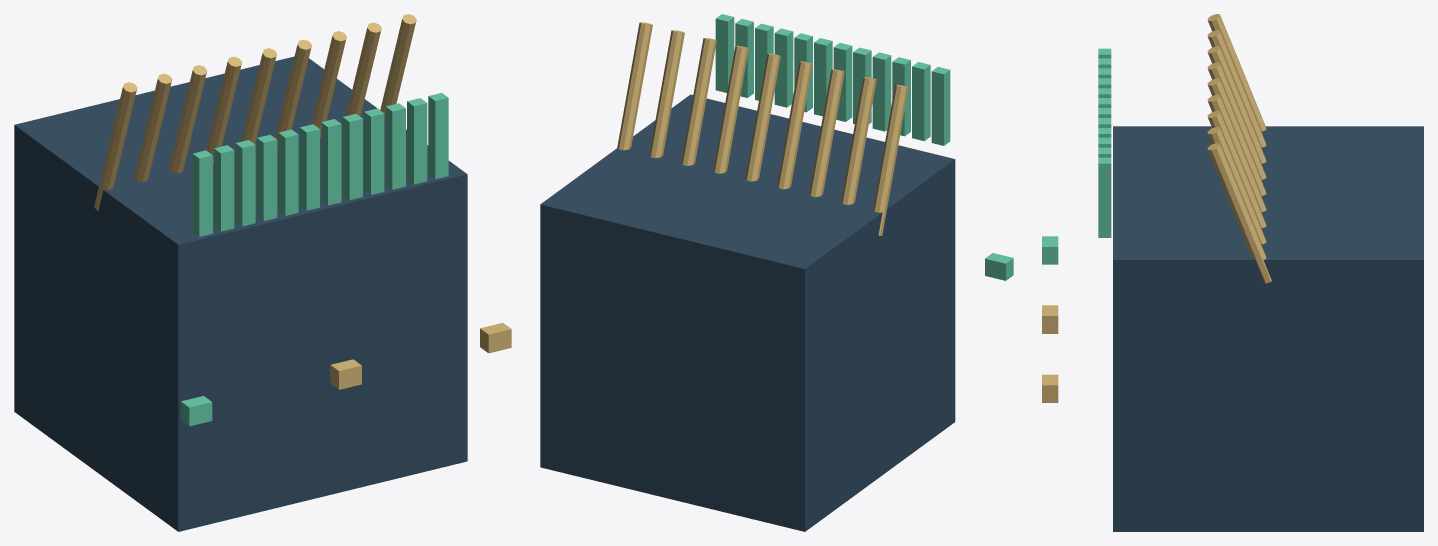
The model's file is 52_L80_IOOpticalOutputInterface.glb.
The picture shows the model from 3 angles, left to right: view 1: azimuth 30°, elevation 25°; view 2: azimuth 150°, elevation 25°; view 3: azimuth 270°, elevation 25°; orthographic projection. The views are drawn at different scales.
Parts seen in each view (by area): view 1: IOOpticalOutputInterface_Node_0000, IOOpticalOutputInterface_Node_0013, IOOpticalOutputInterface_Node_0010, IOOpticalOutputInterface_Node_0003, IOOpticalOutputInterface_Node_0006, IOOpticalOutputInterface_Node_0007, IOOpticalOutputInterface_Node_0009, IOOpticalOutputInterface_Node_0001, IOOpticalOutputInterface_Node_0002, IOOpticalOutputInterface_Node_0005, IOOpticalOutputInterface_Node_0008, IOOpticalOutputInterface_Node_0011 (+13 smaller); view 2: IOOpticalOutputInterface_Node_0000, IOOpticalOutputInterface_Node_0013, IOOpticalOutputInterface_Node_0014, IOOpticalOutputInterface_Node_0015, IOOpticalOutputInterface_Node_0017, IOOpticalOutputInterface_Node_0019, IOOpticalOutputInterface_Node_0016, IOOpticalOutputInterface_Node_0018, IOOpticalOutputInterface_Node_0020, IOOpticalOutputInterface_Node_0021, IOOpticalOutputInterface_Node_0001, IOOpticalOutputInterface_Node_0002 (+11 smaller); view 3: IOOpticalOutputInterface_Node_0000, IOOpticalOutputInterface_Node_0021, IOOpticalOutputInterface_Node_0012, IOOpticalOutputInterface_Node_0014, IOOpticalOutputInterface_Node_0016, IOOpticalOutputInterface_Node_0017, IOOpticalOutputInterface_Node_0013, IOOpticalOutputInterface_Node_0015, IOOpticalOutputInterface_Node_0018, IOOpticalOutputInterface_Node_0020, IOOpticalOutputInterface_Node_0019, IOOpticalOutputInterface_Node_0022 (+2 smaller).
Part boxes in pixels (x1,y1,x2,y2): IOOpticalOutputInterface_Node_0000: (14, 56, 467, 531); IOOpticalOutputInterface_Node_0013: (94, 82, 137, 210); IOOpticalOutputInterface_Node_0010: (385, 103, 405, 189); IOOpticalOutputInterface_Node_0003: (235, 140, 255, 226); IOOpticalOutputInterface_Node_0006: (299, 124, 319, 210); IOOpticalOutputInterface_Node_0007: (321, 119, 341, 205); IOOpticalOutputInterface_Node_0009: (364, 108, 384, 194); IOOpticalOutputInterface_Node_0001: (192, 150, 212, 236); IOOpticalOutputInterface_Node_0002: (214, 145, 234, 231); IOOpticalOutputInterface_Node_0005: (278, 129, 298, 215); IOOpticalOutputInterface_Node_0008: (342, 114, 362, 200); IOOpticalOutputInterface_Node_0011: (407, 98, 427, 184); IOOpticalOutputInterface_Node_0000: (540, 94, 955, 531); IOOpticalOutputInterface_Node_0013: (873, 84, 908, 235); IOOpticalOutputInterface_Node_0014: (841, 77, 876, 204); IOOpticalOutputInterface_Node_0015: (809, 69, 844, 197); IOOpticalOutputInterface_Node_0017: (745, 53, 780, 181); IOOpticalOutputInterface_Node_0019: (681, 38, 716, 165); IOOpticalOutputInterface_Node_0016: (777, 61, 812, 189); IOOpticalOutputInterface_Node_0018: (713, 45, 748, 173); IOOpticalOutputInterface_Node_0020: (649, 30, 684, 158); IOOpticalOutputInterface_Node_0021: (617, 22, 652, 150); IOOpticalOutputInterface_Node_0001: (931, 66, 950, 145); IOOpticalOutputInterface_Node_0002: (912, 62, 930, 141); IOOpticalOutputInterface_Node_0000: (1113, 126, 1423, 531); IOOpticalOutputInterface_Node_0021: (1207, 143, 1271, 283); IOOpticalOutputInterface_Node_0012: (1098, 157, 1111, 237); IOOpticalOutputInterface_Node_0014: (1207, 30, 1266, 147); IOOpticalOutputInterface_Node_0016: (1207, 62, 1266, 179); IOOpticalOutputInterface_Node_0017: (1207, 78, 1266, 195); IOOpticalOutputInterface_Node_0013: (1207, 14, 1266, 131); IOOpticalOutputInterface_Node_0015: (1207, 46, 1266, 163); IOOpticalOutputInterface_Node_0018: (1207, 94, 1266, 212); IOOpticalOutputInterface_Node_0020: (1207, 127, 1266, 244); IOOpticalOutputInterface_Node_0019: (1207, 110, 1266, 228); IOOpticalOutputInterface_Node_0022: (1042, 236, 1058, 264).
Size of the model in its own units: 0.646 by 0.7792 by 0.7.
